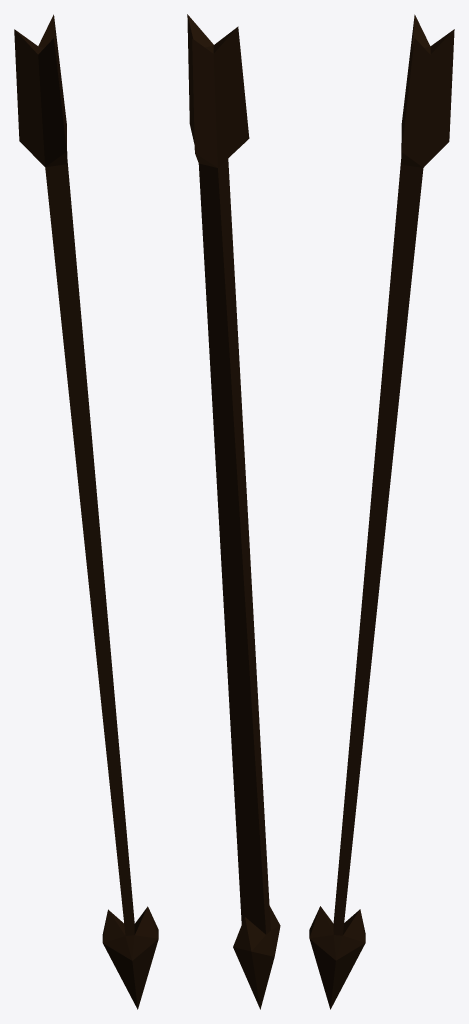
Rendered from Archer-Arrow.FBX.
3 renders of one model, left to right at view 1: azimuth 90°, elevation 25°; view 2: azimuth 150°, elevation 25°; view 3: azimuth 270°, elevation 25°, orthographic. The views are drawn at different scales.
Parts seen in each view (by area): view 1: Arrow; view 2: Arrow; view 3: Arrow.
Boxes of the visible parts, <box> form: Arrow: <box>14,14,158,1009</box>; Arrow: <box>187,14,280,1009</box>; Arrow: <box>309,14,454,1009</box>.
Size of the model in its own units: 8.33 by 136 by 18.19.
